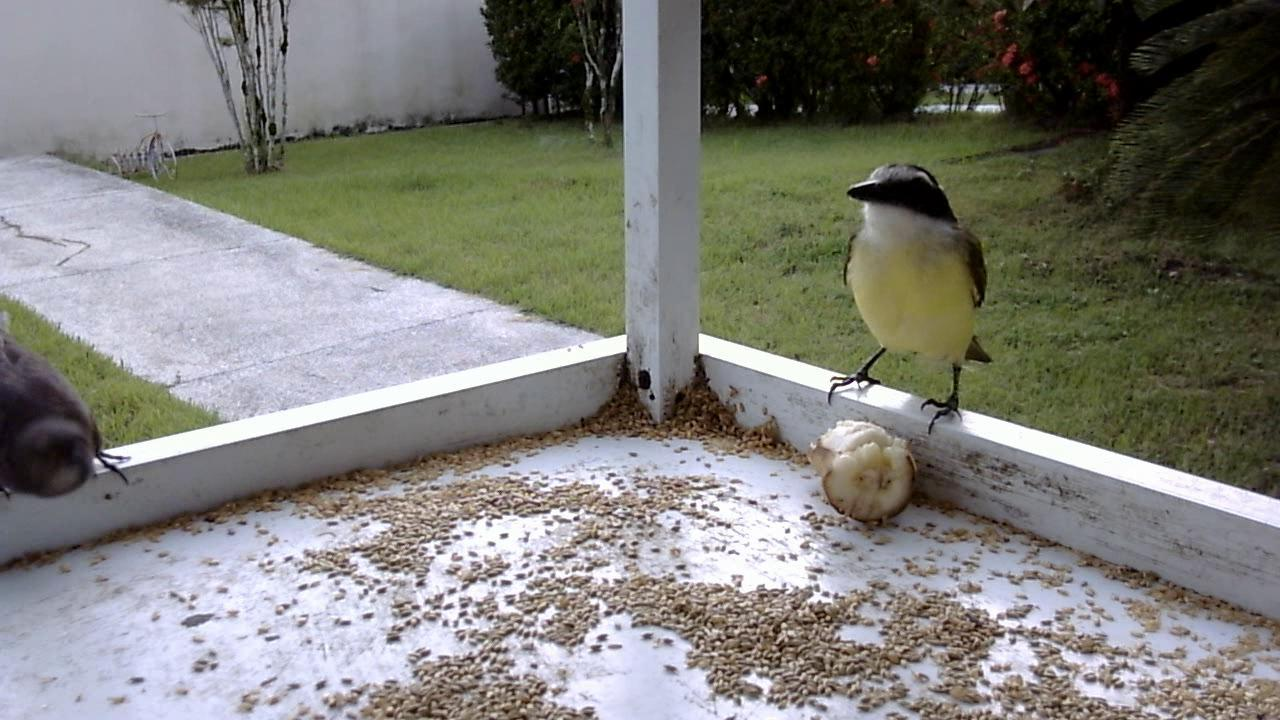bem_te_vi: (824, 159, 994, 436)
chupim: (1, 321, 145, 512)
